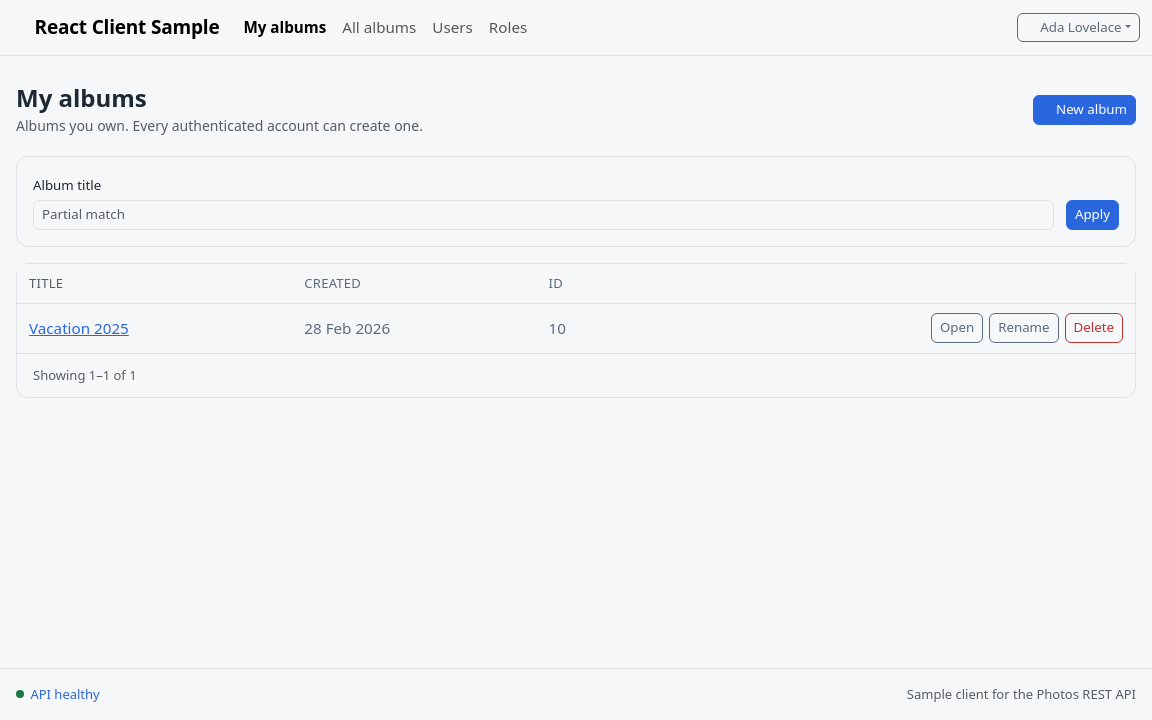
Test: The document title › changes with the screen
Expected: the heading "My albums" is shown, [16,81,147,114]
Step 1. Click the link "Roles" → (508, 27), box [489,17,527,37]
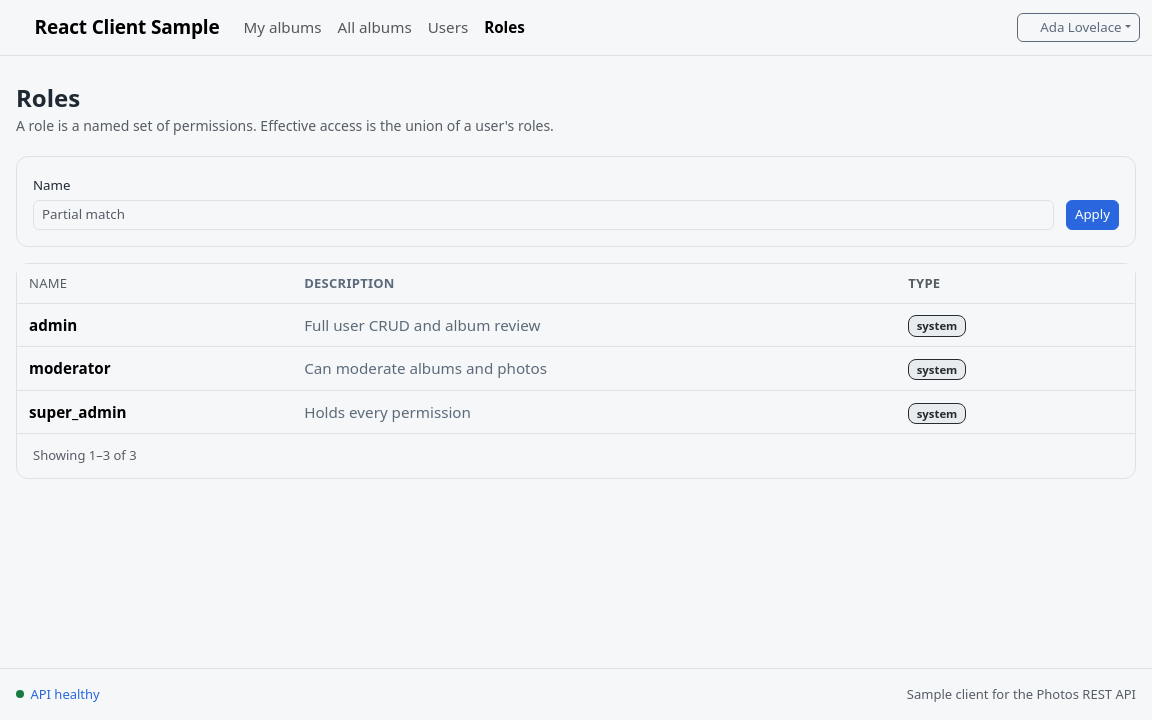
Expected: the heading "Roles" is shown, [16,81,80,114]
